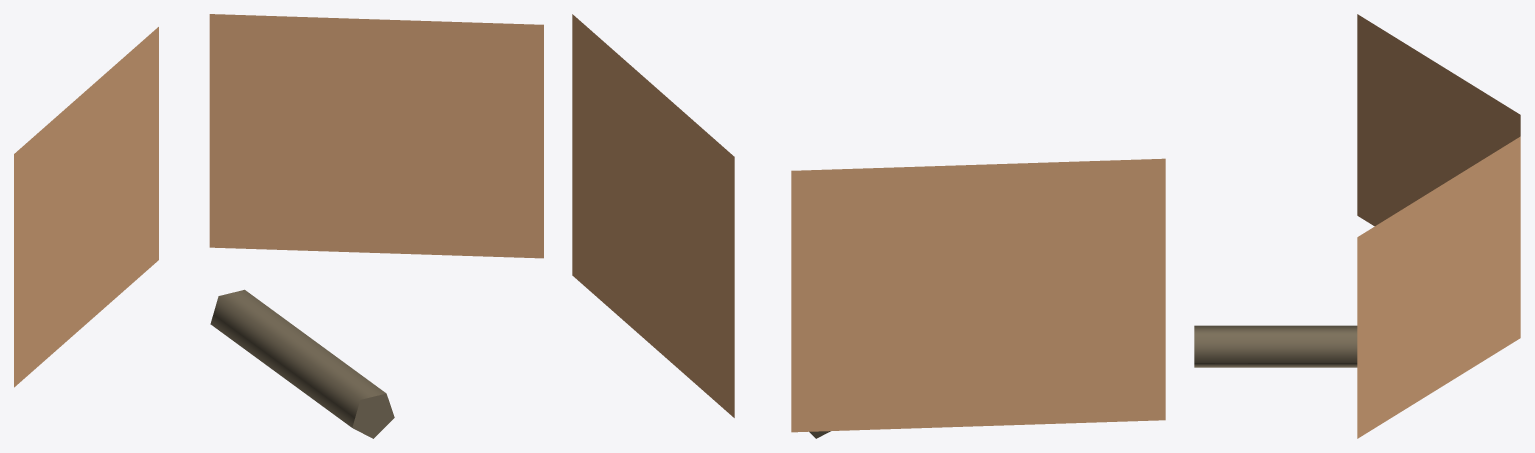
The model's file is butterfly.gltf.
The picture shows the model from 3 angles, left to right: view 1: azimuth 30°, elevation 25°; view 2: azimuth 150°, elevation 25°; view 3: azimuth 270°, elevation 25°; orthographic projection. The views are drawn at different scales.
Parts seen in each view (by area): view 1: WingR, WingL, Body; view 2: WingL, WingR; view 3: WingR, WingL, Body.
Part boxes in pixels (x1,y1,x2,y2): WingR: (209,14,543,258); WingL: (14,27,158,387); Body: (210,289,394,438); WingL: (791,158,1165,432); WingR: (572,14,734,417); WingR: (1357,136,1520,438); WingL: (1357,14,1520,226); Body: (1194,325,1357,367).
Size of the model in its own units: 0.4746 by 0.24 by 0.2934.
